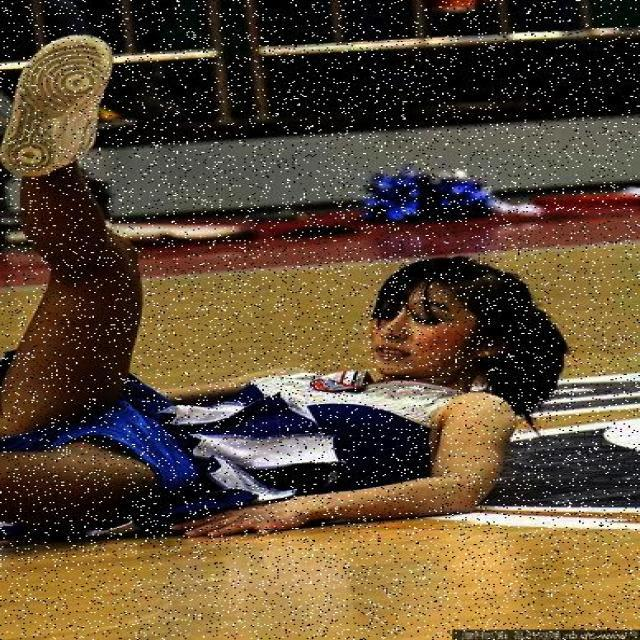fall: (1, 194, 562, 537)
